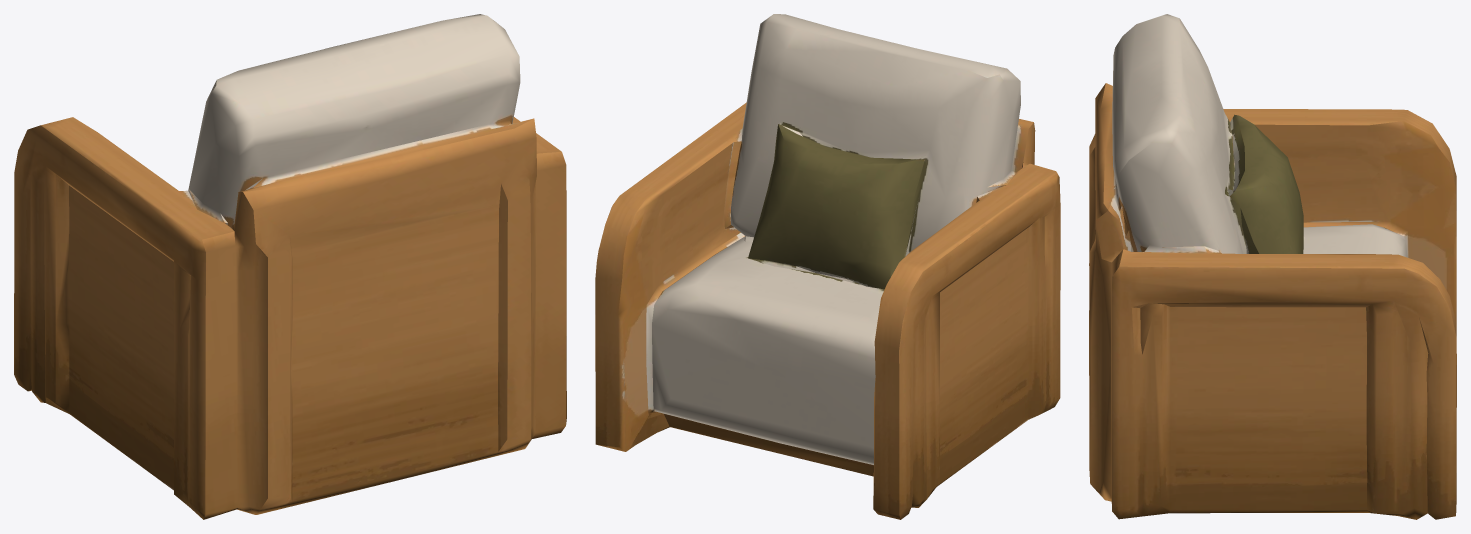
File: seat_reading-chair_v2.glb
3 renders of one model, left to right at view 1: azimuth 30°, elevation 25°; view 2: azimuth 150°, elevation 25°; view 3: azimuth 270°, elevation 25°, orthographic. The views are drawn at different scales.
Visible parts, largest first — view 1: body; view 2: body; view 3: body.
Boxes of the visible parts, x1,y1,x2,y2 form: body: [14, 14, 566, 519]; body: [595, 14, 1060, 519]; body: [1089, 14, 1456, 519].
Size of the model in its own units: 0.8713 by 0.9266 by 0.832.
Materials: 1 (1 with a texture image).
